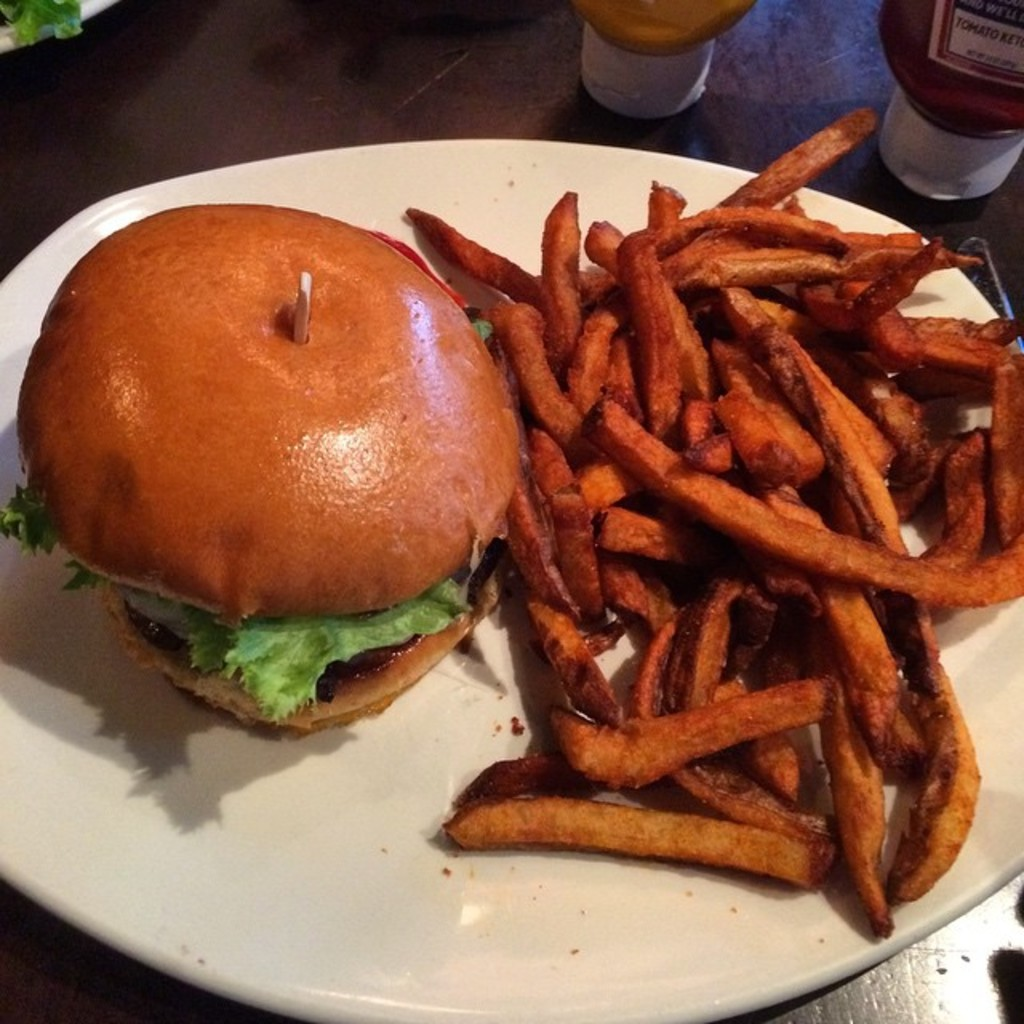French fries: (414, 135, 1014, 900)
